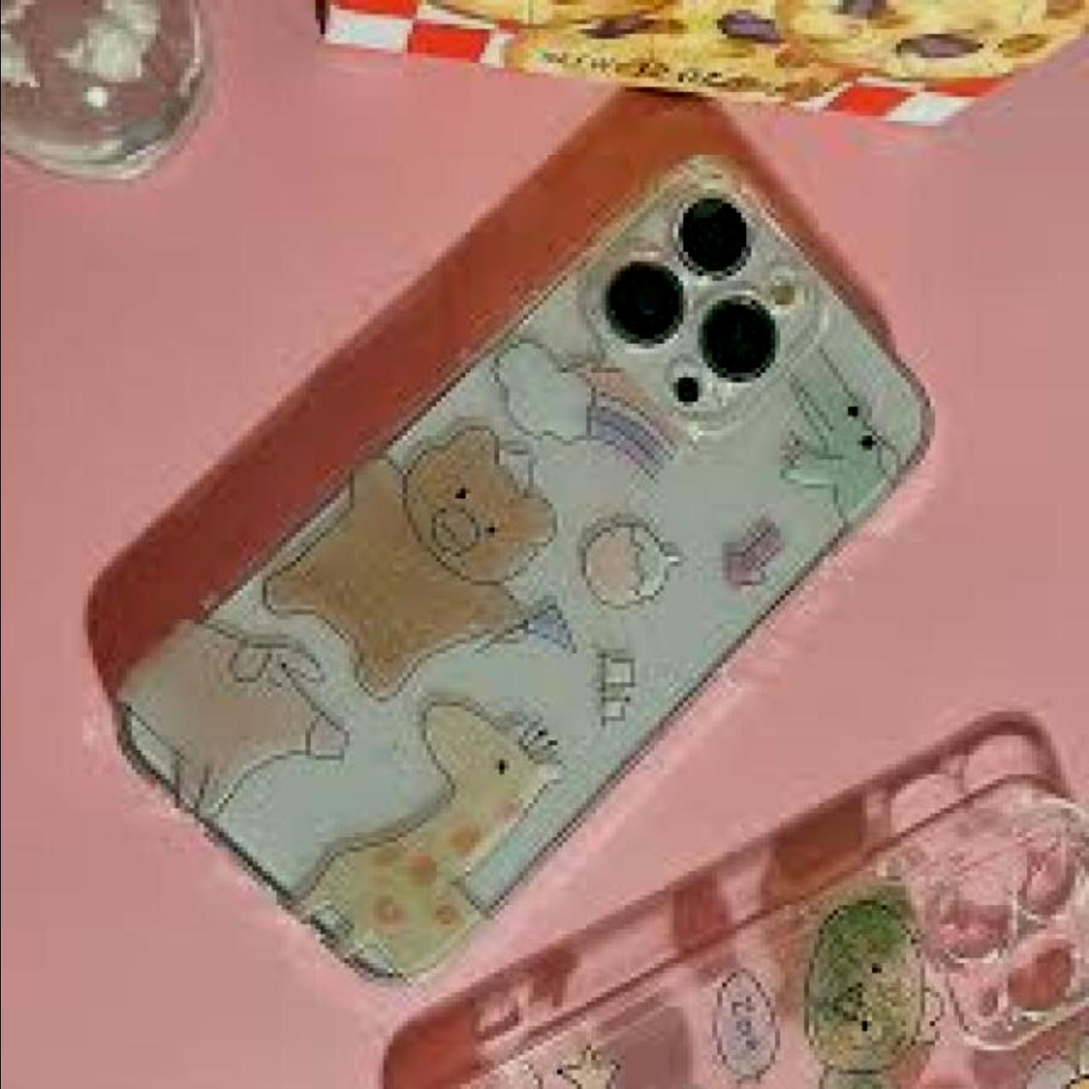phone: (118, 155, 933, 982)
